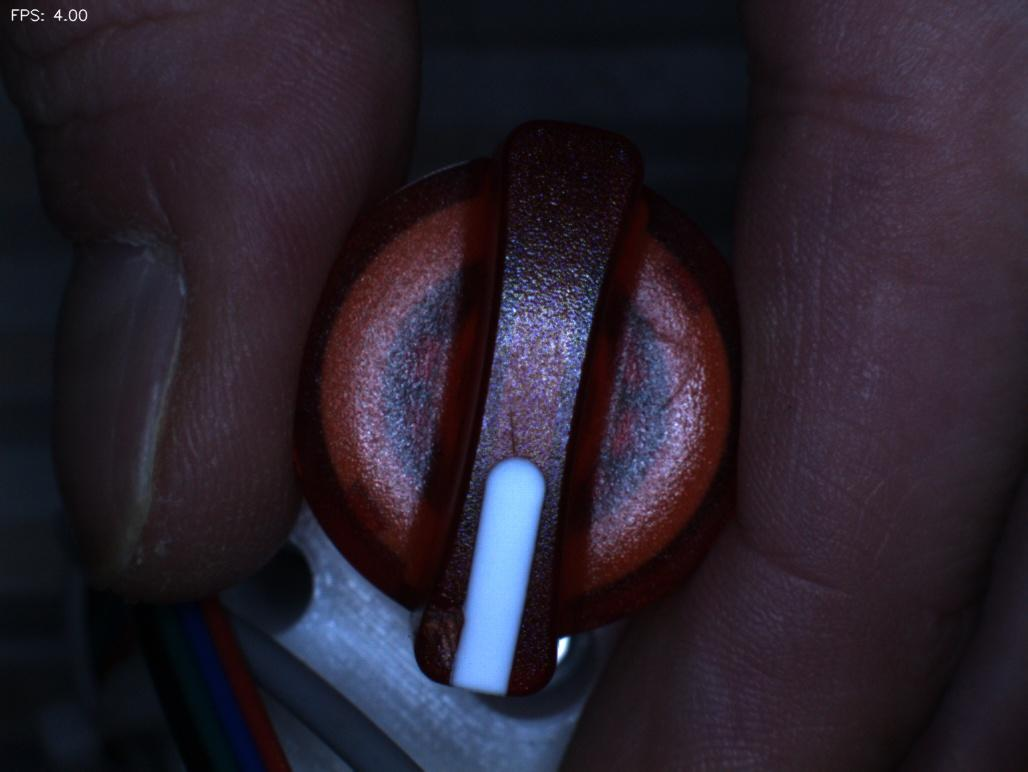Choc: (404, 579, 498, 687)
